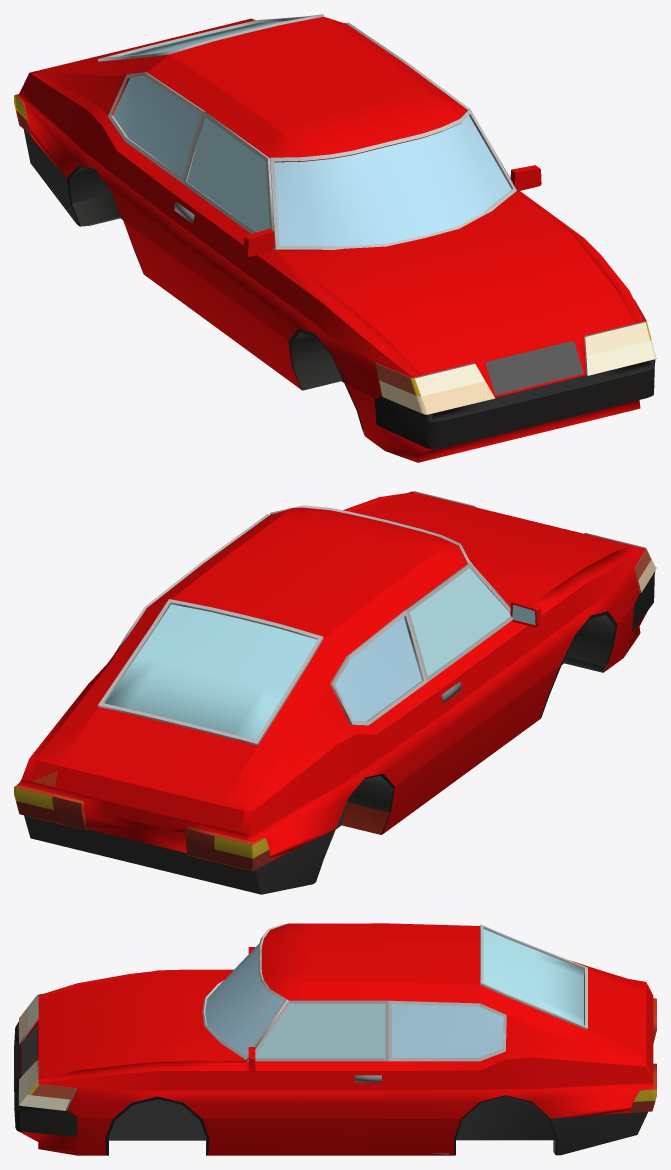
File: Turbo.fbx
3 renders of one model, top to bottom at view 1: azimuth 30°, elevation 25°; view 2: azimuth 150°, elevation 25°; view 3: azimuth 270°, elevation 25°, orthographic. The views are drawn at different scales.
Parts seen in each view (by area): view 1: Chassi, Hood, Door_R, Trunk, Door_L; view 2: Chassi, Trunk, Door_R, Hood; view 3: Chassi, Door_L, Hood, Trunk.
Boxes of the visible parts, box(x1,y1,x2,y2) form: Chassi: box(14, 16, 656, 462); Hood: box(276, 192, 635, 375); Door_R: box(169, 111, 278, 372); Trunk: box(63, 14, 323, 64); Door_L: box(405, 62, 541, 195); Chassi: box(14, 491, 656, 894); Trunk: box(55, 599, 323, 826); Door_R: box(405, 563, 541, 791); Hood: box(349, 494, 634, 607); Chassi: box(14, 923, 656, 1155); Door_L: box(242, 1000, 388, 1155); Hood: box(38, 969, 246, 1079); Trunk: box(480, 924, 652, 1068).
Bounding box in the file's own units: 2.14 × 1.42 × 5.18.
